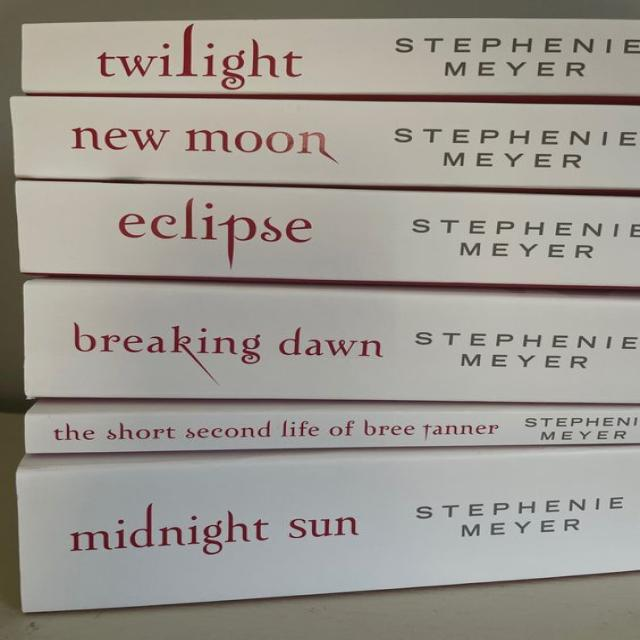book: (16, 447, 639, 612), (25, 279, 639, 403), (18, 181, 639, 288), (11, 98, 639, 189), (22, 19, 639, 95), (26, 403, 639, 453)
